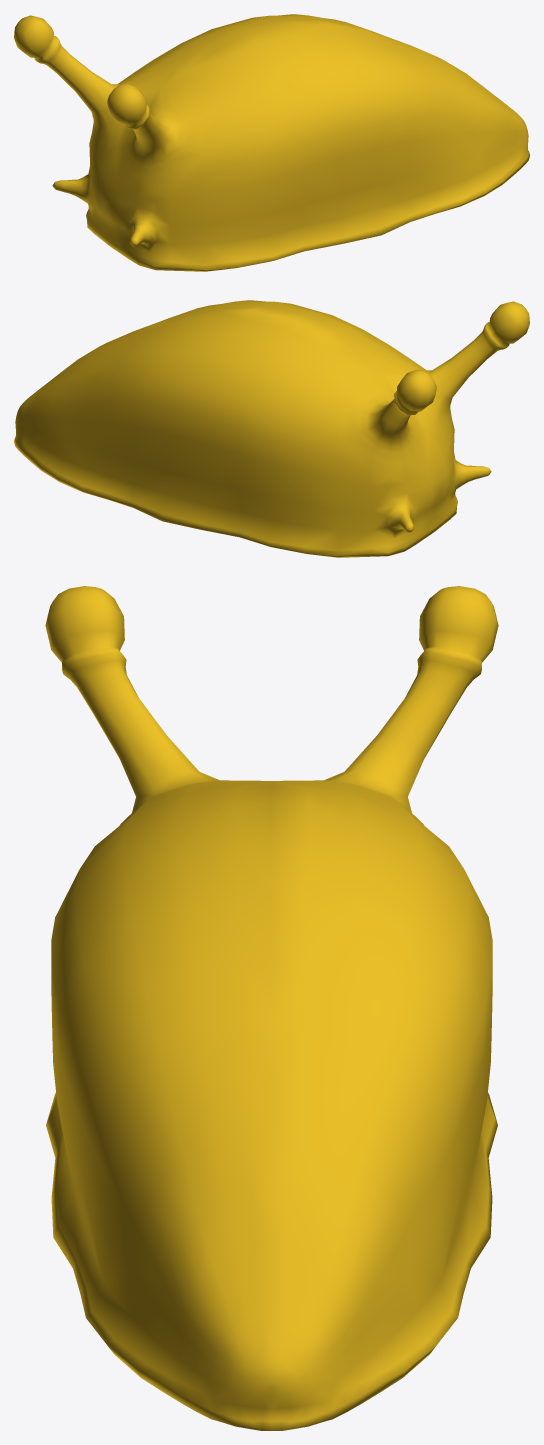
File: SluggulaUV.fbx
3 views of the same model, one above another, from view 1: azimuth 30°, elevation 25°; view 2: azimuth 150°, elevation 25°; view 3: azimuth 270°, elevation 25° (orthographic). The views are drawn at different scales.
Visible parts, largest first — view 1: Cube.003; view 2: Cube.003; view 3: Cube.003.
Boxes of the visible parts, bbox=[...] form: Cube.003: bbox=[14, 14, 529, 271]; Cube.003: bbox=[14, 300, 529, 557]; Cube.003: bbox=[45, 586, 498, 1430].
Bounding box in the file's own units: 251 × 106 × 106.
